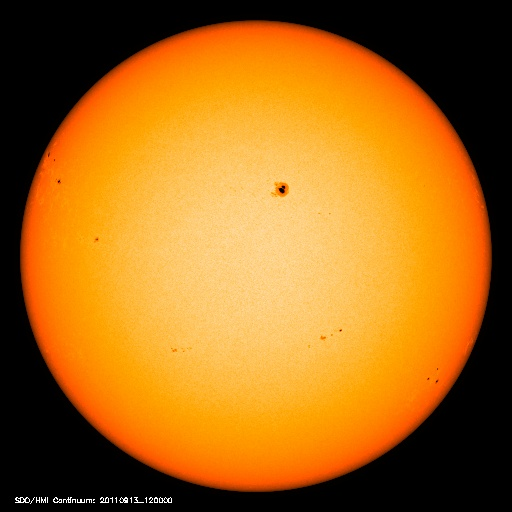sunspot: (267, 170, 332, 222), (307, 319, 353, 352), (41, 144, 66, 191), (160, 335, 202, 362), (417, 357, 451, 390), (82, 223, 110, 254)
